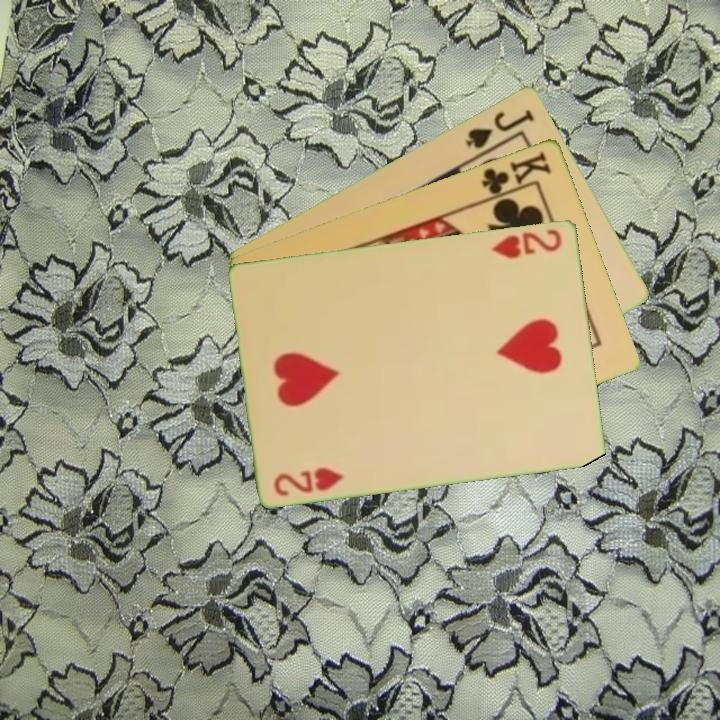2h: (489, 225, 565, 262), (271, 463, 347, 499)
Js: (461, 105, 538, 151)
Kc: (478, 147, 555, 203)
